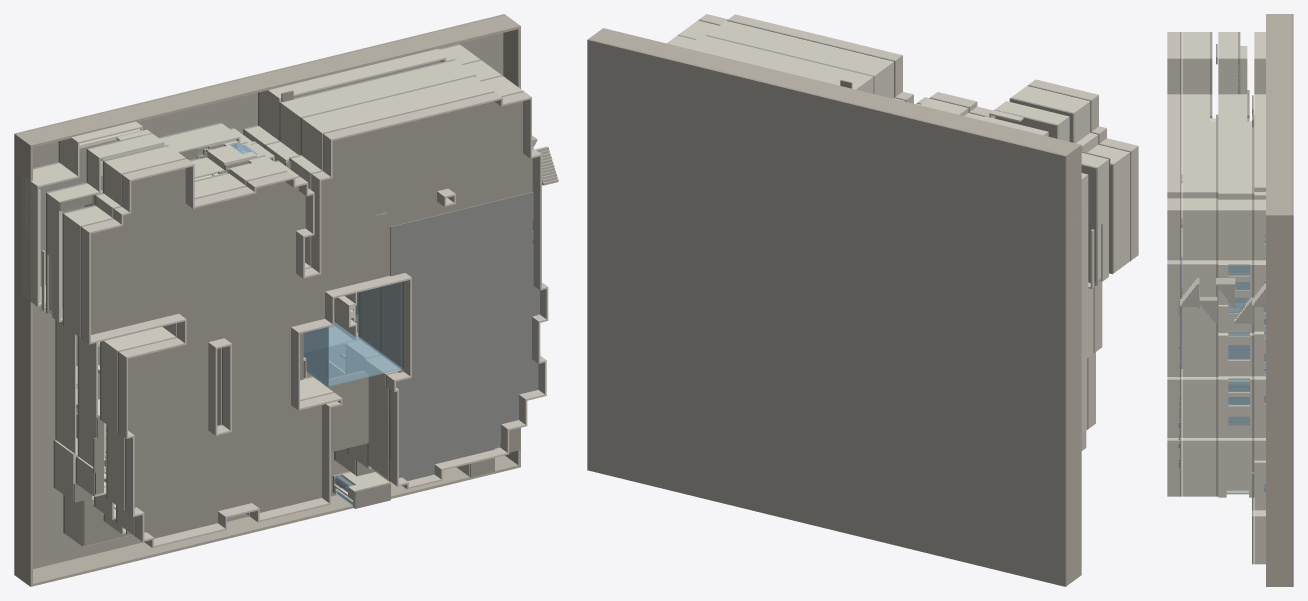
Rendered from Disrupt_141C_v2_corrected.glb.
The picture shows the model from 3 angles, left to right: view 1: azimuth 30°, elevation 25°; view 2: azimuth 150°, elevation 25°; view 3: azimuth 270°, elevation 25°; orthographic projection. The views are drawn at different scales.
Visible parts, largest first — view 1: Roof_Level_35-3_Slab, Roof_Corrugated_Sheet, Roof_Level_35-3_Parapet, Site_Boundary_Wall, SF_External_Walls, FF_External_Walls, GF_External_Walls, Ground_Apron, Courtyard_Glazing, Roof_Level_23-10_Slab, Roof_Level_12-5_Slab, GF_Slab (+4 smaller); view 2: Ground_Apron, Site_Boundary_Wall, SF_External_Walls, FF_External_Walls, Roof_Level_35-3_Parapet, FF_Slab, SF_Slab, Roof_Level_35-3_Slab, GF_External_Walls; view 3: Site_Boundary_Wall, SF_External_Walls, FF_External_Walls, GF_External_Walls, Roof_Level_35-3_Parapet, FF_Glazing, Ground_Apron, SF_Slab, FF_Slab, FF_Internal_Walls, Roof_Level_35-3_Slab, SF_Stairs (+4 smaller).
Part boxes in pixels (box(x1,y1,x2,y2)): Roof_Level_35-3_Slab: box(80, 91, 539, 542); Roof_Corrugated_Sheet: box(390, 192, 539, 480); Roof_Level_35-3_Parapet: box(81, 92, 548, 547); Site_Boundary_Wall: box(15, 15, 520, 586); SF_External_Walls: box(64, 76, 532, 535); FF_External_Walls: box(41, 60, 501, 534); GF_External_Walls: box(20, 45, 479, 546); Ground_Apron: box(14, 14, 505, 575); Courtyard_Glazing: box(303, 282, 402, 386); Roof_Level_23-10_Slab: box(59, 161, 368, 534); Roof_Level_12-5_Slab: box(73, 90, 520, 546); GF_Slab: box(18, 44, 459, 533); Ground_Apron: box(587, 39, 1066, 586); Site_Boundary_Wall: box(589, 28, 1081, 585); SF_External_Walls: box(679, 20, 1129, 433); FF_External_Walls: box(666, 35, 1108, 288); Roof_Level_35-3_Parapet: box(700, 14, 1138, 450); FF_Slab: box(994, 109, 1097, 288); SF_Slab: box(677, 34, 1113, 274); Roof_Level_35-3_Slab: box(698, 19, 1131, 429); GF_External_Walls: box(981, 116, 1088, 296); Site_Boundary_Wall: box(1266, 14, 1291, 586); SF_External_Walls: box(1182, 32, 1215, 496); FF_External_Walls: box(1218, 32, 1251, 497); GF_External_Walls: box(1254, 32, 1265, 564); Roof_Level_35-3_Parapet: box(1167, 32, 1179, 496); FF_Glazing: box(1226, 265, 1249, 491); Ground_Apron: box(1291, 14, 1293, 586); SF_Slab: box(1210, 32, 1218, 496); FF_Slab: box(1238, 32, 1254, 497); FF_Internal_Walls: box(1228, 266, 1249, 422); Roof_Level_35-3_Slab: box(1180, 32, 1181, 496); SF_Stairs: box(1180, 174, 1217, 323).
Bounding box in the file's own units: 151 × 130 × 40.
